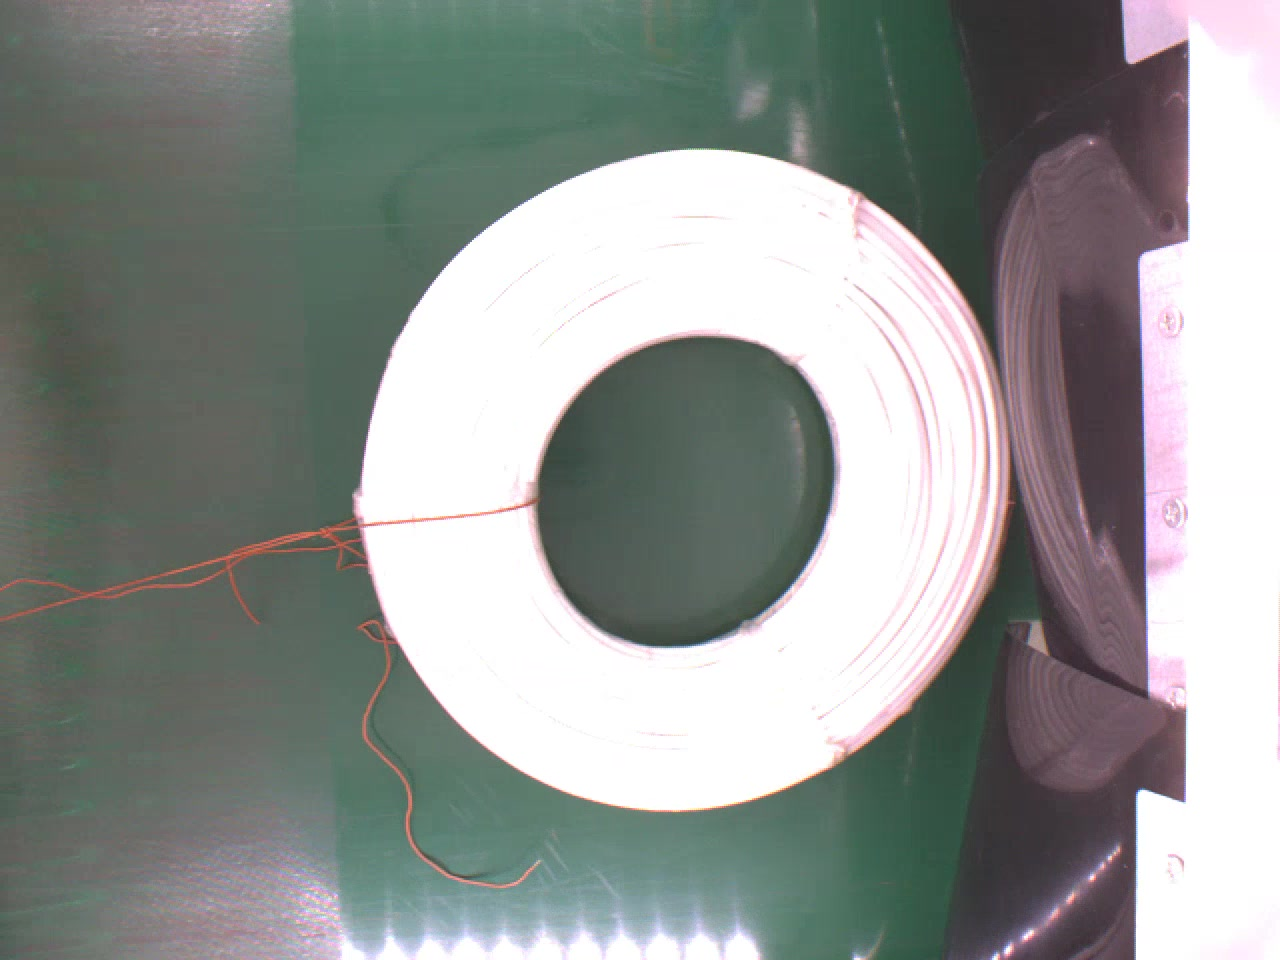white: (352, 144, 1014, 812)
